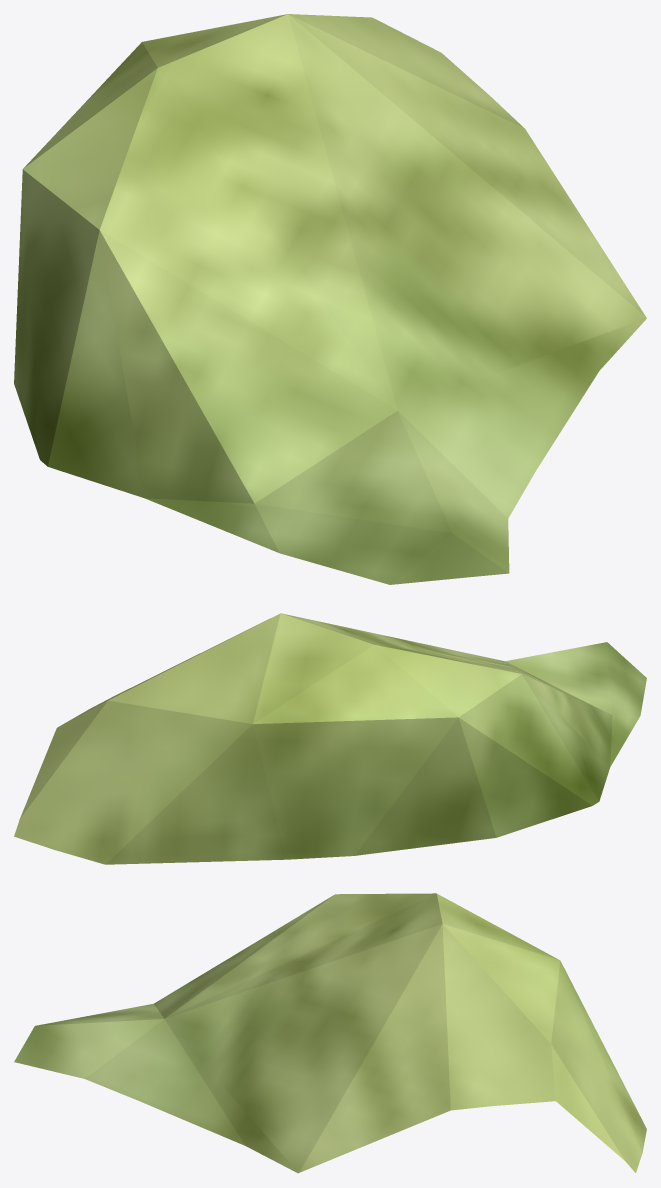
3 renders of one model, top to bottom at view 1: azimuth 30°, elevation 25°; view 2: azimuth 150°, elevation 25°; view 3: azimuth 270°, elevation 25°, orthographic. The views are drawn at different scales.
Size of the model in its own units: 0.6402 by 0.2845 by 0.9314.
Materials: 1 (1 with a texture image).
